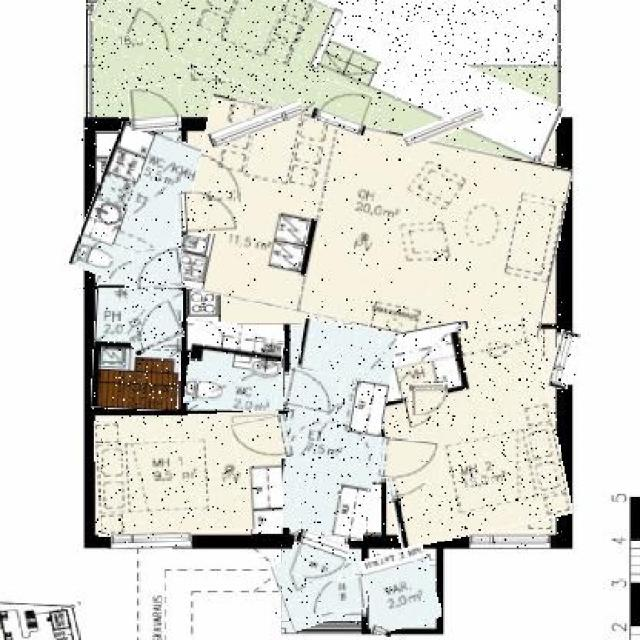door: (288, 530, 348, 584), (314, 81, 375, 132), (377, 438, 441, 482), (234, 417, 292, 463), (177, 191, 238, 234), (125, 304, 182, 350), (285, 370, 340, 416), (128, 84, 182, 130), (132, 246, 183, 288), (308, 580, 368, 614), (409, 383, 448, 415)
window: (208, 108, 304, 140), (403, 112, 486, 143), (551, 330, 577, 388), (469, 530, 546, 548), (112, 534, 192, 549), (371, 626, 391, 636)
zone: (182, 112, 564, 343), (90, 0, 562, 162), (369, 323, 563, 540), (278, 321, 389, 537), (95, 414, 283, 535), (80, 125, 192, 289), (92, 289, 182, 409), (186, 322, 283, 412), (276, 546, 362, 626), (364, 548, 438, 629), (381, 325, 477, 386)
